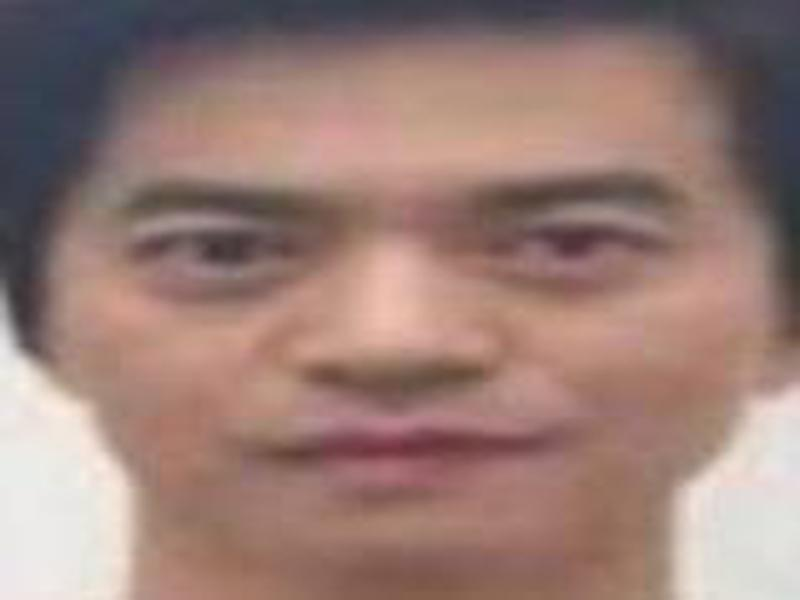without_mask: (53, 82, 751, 578)
